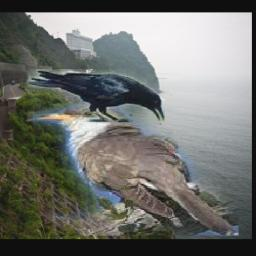Crow: (28, 69, 165, 122)
Cuckoo: (32, 105, 238, 237)
